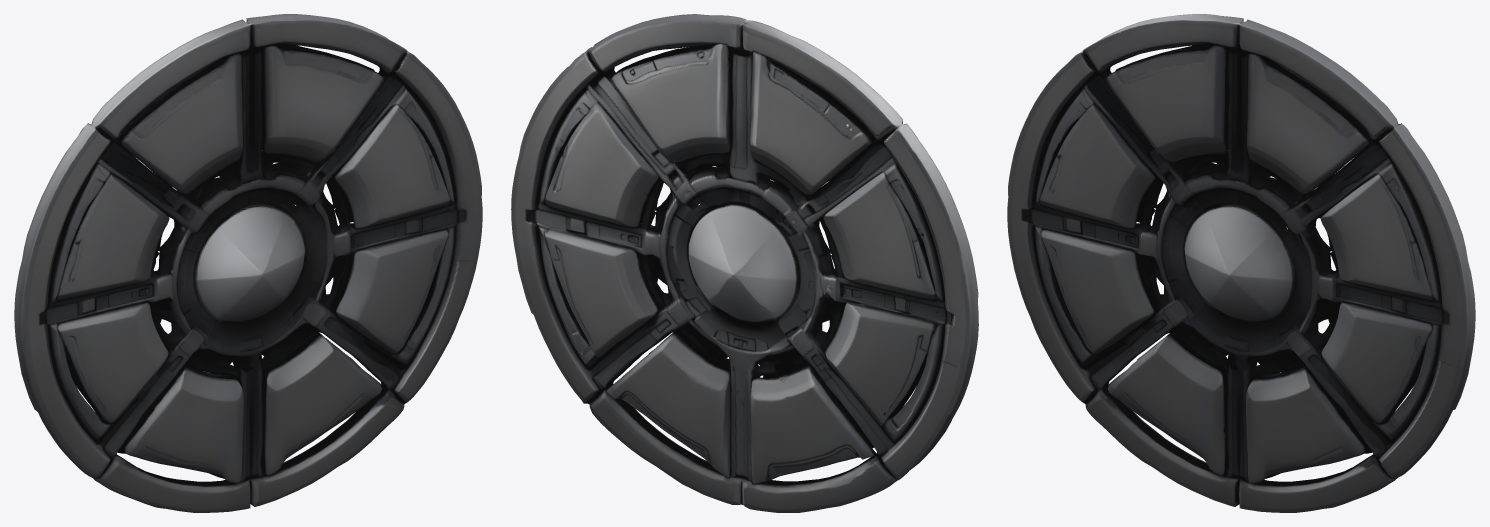
Rendered from albaraa-intelligence-turbine-parts.glb.
3 renders of one model, left to right at view 1: azimuth 30°, elevation 25°; view 2: azimuth 150°, elevation 25°; view 3: azimuth 330°, elevation 25°, orthographic.
Parts seen in each view (by area): view 1: root.0, root.4, root.3, root.6, root.2, root.15, root.14, root.13, root.9, root.5, root.8, root.1 (+1 smaller); view 2: root.0, root.7, root.5, root.1, root.8, root.10, root.12, root.11, root.16; view 3: root.0, root.3, root.4, root.2, root.6, root.13, root.9, root.15, root.14, root.7, root.1, root.8 (+1 smaller).
Boxes of the visible parts, x1,y1,x2,y2 form: root.0: (14,14,482,512); root.4: (263,45,384,161); root.3: (120,53,242,194); root.6: (124,367,243,483); root.2: (264,334,382,475); root.15: (334,104,450,228); root.14: (335,229,448,354); root.13: (56,174,169,300); root.9: (57,302,168,423); root.5: (118,54,233,186); root.8: (261,331,322,471); root.1: (117,365,234,478); root.0: (511,14,978,512); root.7: (610,44,732,162); root.5: (750,51,871,194); root.1: (750,364,876,484); root.8: (606,332,731,478); root.10: (544,228,659,357); root.12: (545,102,658,227); root.11: (823,172,936,299); root.16: (825,300,935,426); root.0: (1007,14,1475,512); root.3: (1105,45,1226,161); root.4: (1247,53,1369,193); root.2: (1246,367,1365,483); root.6: (1107,334,1225,475); root.13: (1039,104,1155,228); root.9: (1041,229,1154,354); root.15: (1320,173,1433,300); root.14: (1321,302,1432,423); root.7: (1256,54,1371,186); root.1: (1167,331,1228,471); root.8: (1255,365,1372,478).
Bounding box in the file's own units: 1.89 × 1.9 × 0.1858.
17 materials, 17 textured.
